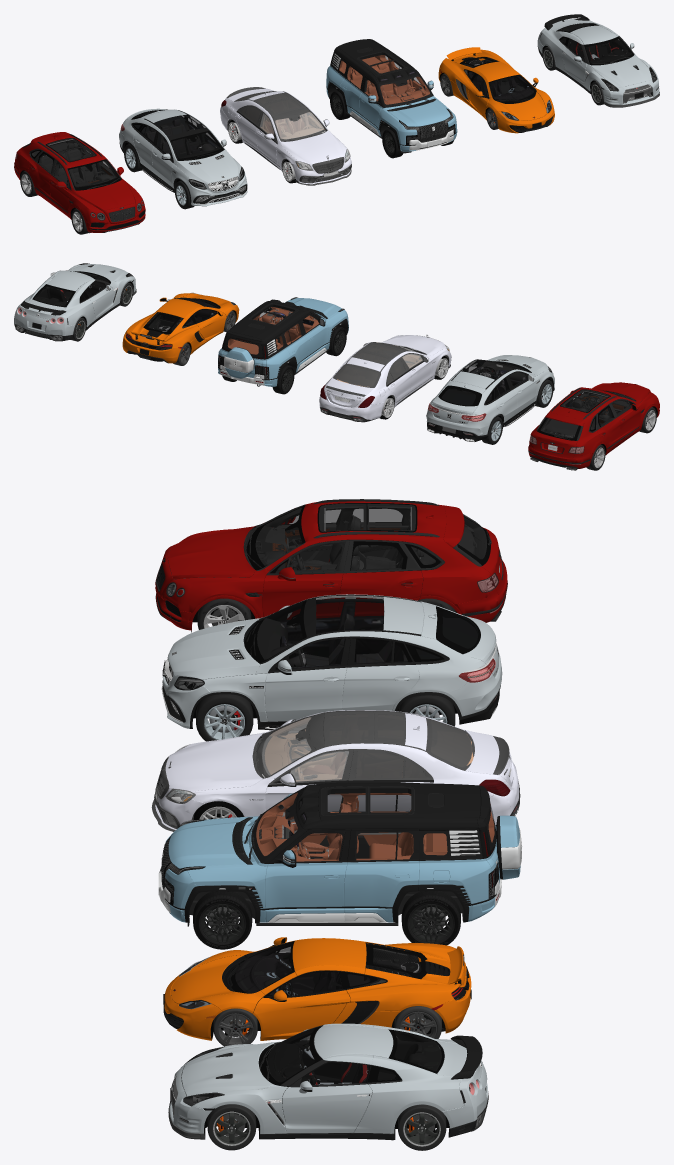
File: cars_33.fbx
3 renders of one model, top to bottom at view 1: azimuth 30°, elevation 25°; view 2: azimuth 150°, elevation 25°; view 3: azimuth 270°, elevation 25°, orthographic. The views are drawn at different scales.
Visible parts, largest first — view 1: Body_BKit1_Paint_Geo_lodASG1, Body_CarPaint, Body_carPaint, Body_sw222_paint, Body_Mphong9SG1, Body_u8MAT_BYD_YangWang_U8_Ca, Body_u8MAT_CarPaint2_009, SeeThrough_u8MAT_Glass_021, Body_u8MAT_Details_MAT_039, Body_sw222_main_alt_2, SeeThrough_BKit1_Window_Geo_lodASG1, Body_internal (+23 smaller); view 2: Body_BKit1_Paint_Geo_lodASG1, Body_sw222_paint, Body_carPaint, Body_CarPaint, Body_Mphong9SG1, Body_u8MAT_BYD_YangWang_U8_Ca, Body_u8MAT_CarPaint2_009, SeeThrough_u8MAT_Glass_021, Body_u8MAT_Details_MAT_039, Body_BKit1_Coloured_Geo_lodAS, SeeThrough_sw222_glass_007, SeeThrough_BKit1_Window_Geo_lodASG1 (+17 smaller); view 3: Body_carPaint, Body_BKit1_Paint_Geo_lodASG1, Body_CarPaint, Body_u8MAT_BYD_YangWang_U8_Ca, Body_Mphong9SG1, Body_sw222_paint, Body_u8MAT_CarPaint2_009, SeeThrough_u8MAT_Glass_021, SeeThrough_BKit1_Window_Geo_lodASG1, Body_u8MAT_Details_MAT_039, Body_BKit1_Coloured_Geo_lodAS, Body_internal (+28 smaller).
Part boxes in pixels (x1,y1,x2,y2): Body_BKit1_Paint_Geo_lodASG1: [14, 132, 145, 232]; Body_CarPaint: [537, 19, 659, 104]; Body_carPaint: [119, 108, 247, 206]; Body_sw222_paint: [220, 88, 351, 184]; Body_Mphong9SG1: [438, 47, 554, 133]; Body_u8MAT_BYD_YangWang_U8_Ca: [326, 65, 457, 151]; Body_u8MAT_CarPaint2_009: [326, 39, 457, 150]; SeeThrough_u8MAT_Glass_021: [330, 48, 455, 144]; Body_u8MAT_Details_MAT_039: [328, 47, 453, 153]; Body_sw222_main_alt_2: [226, 87, 351, 185]; SeeThrough_BKit1_Window_Geo_lodASG1: [32, 138, 142, 219]; Body_internal: [134, 110, 221, 158]; Body_BKit1_Paint_Geo_lodASG1: [528, 382, 659, 468]; Body_sw222_paint: [319, 335, 451, 419]; Body_carPaint: [426, 355, 554, 435]; Body_CarPaint: [14, 264, 135, 335]; Body_Mphong9SG1: [122, 293, 239, 363]; Body_u8MAT_BYD_YangWang_U8_Ca: [218, 298, 348, 386]; Body_u8MAT_CarPaint2_009: [218, 299, 348, 385]; SeeThrough_u8MAT_Glass_021: [218, 297, 344, 379]; Body_u8MAT_Details_MAT_039: [220, 303, 347, 386]; Body_BKit1_Coloured_Geo_lodAS: [528, 388, 644, 470]; SeeThrough_sw222_glass_007: [335, 342, 405, 386]; SeeThrough_BKit1_Window_Geo_lodASG1: [541, 389, 631, 437]; Body_carPaint: [162, 594, 502, 728]; Body_BKit1_Paint_Geo_lodASG1: [155, 501, 507, 630]; Body_CarPaint: [169, 1023, 488, 1133]; Body_u8MAT_BYD_YangWang_U8_Ca: [165, 793, 520, 922]; Body_Mphong9SG1: [164, 937, 471, 1040]; Body_sw222_paint: [155, 710, 519, 829]; Body_u8MAT_CarPaint2_009: [160, 782, 502, 923]; SeeThrough_u8MAT_Glass_021: [163, 786, 498, 904]; SeeThrough_BKit1_Window_Geo_lodASG1: [167, 503, 486, 595]; Body_u8MAT_Details_MAT_039: [158, 786, 522, 926]; Body_BKit1_Coloured_Geo_lodAS: [155, 499, 507, 632]; Body_internal: [243, 599, 478, 668].
Bounding box in the file's own units: 19.62 × 2.01 × 5.41.
160 materials, 160 textured.
